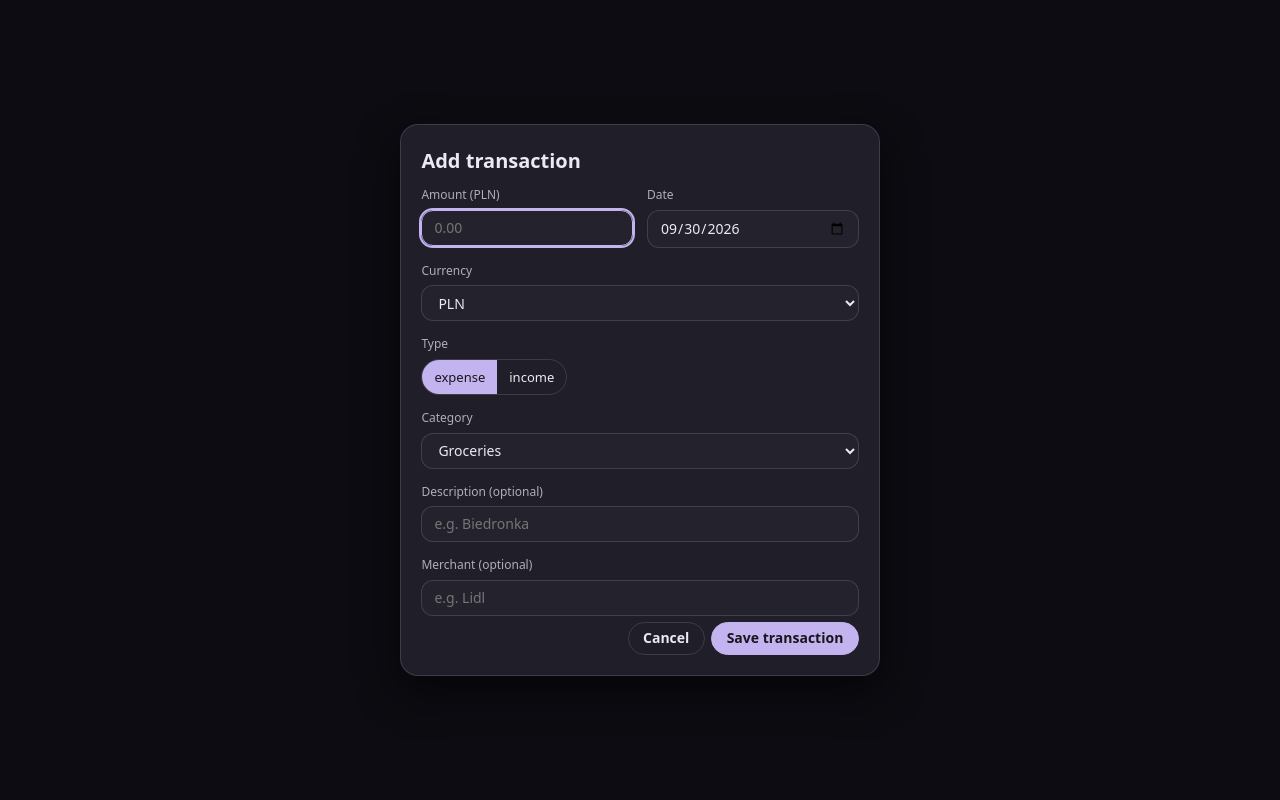
Test: a server message for a field the dialog does not show reaches its banner
In the field labelled "Amount": (527, 228) [421,210,633,246], type "12.50"
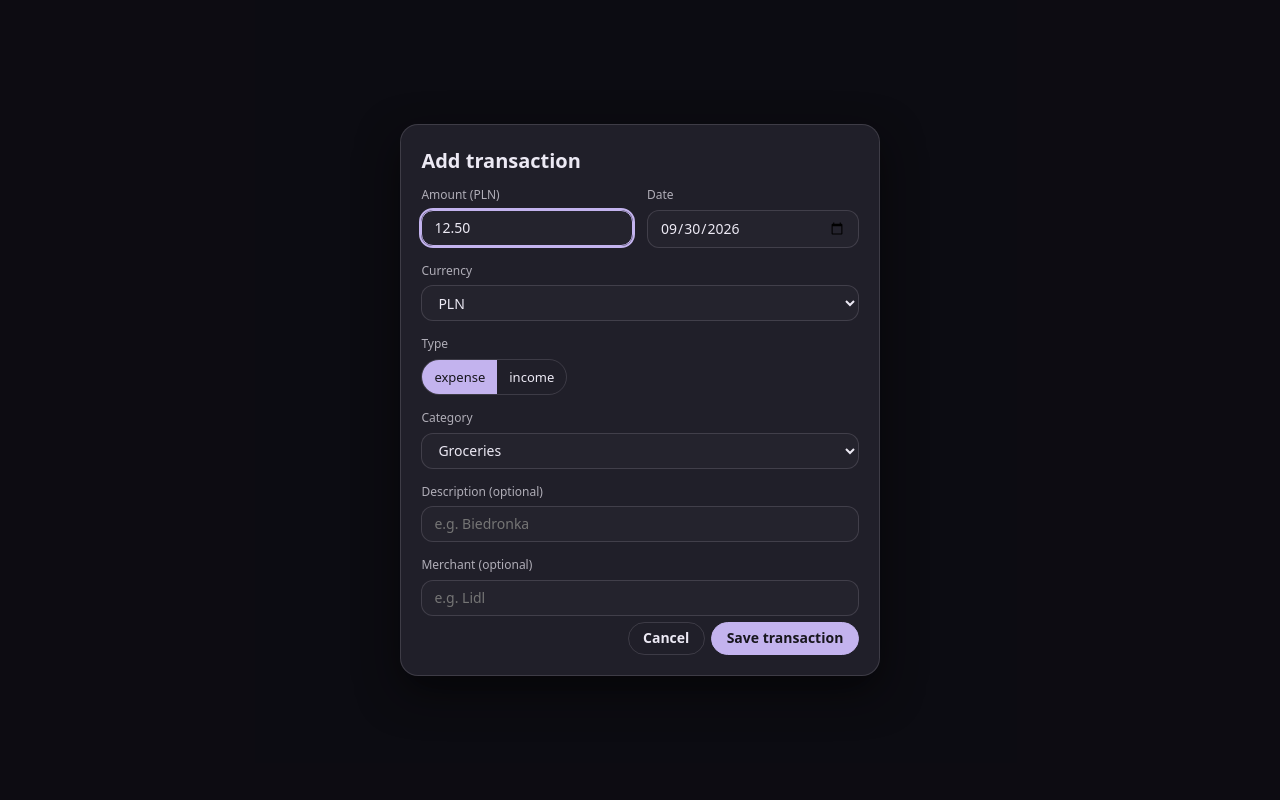
Click the button "Save transaction": click(785, 639) [711,622,859,655]
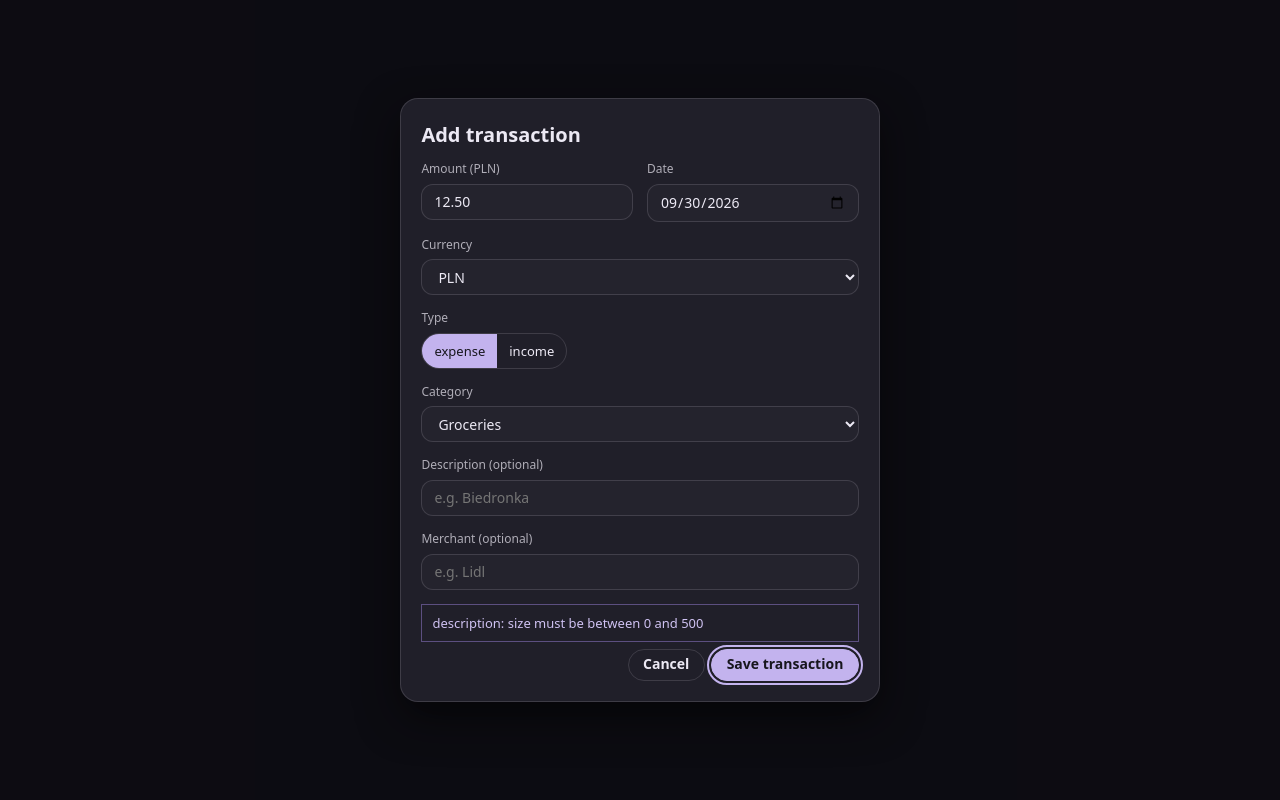
Expected: the text "description: size must be between 0 and 500" is shown, [421,604,859,642]
